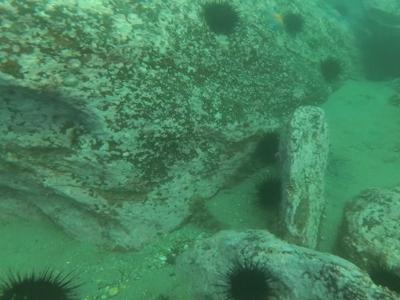holothurian: (187, 195, 231, 233)
urchin: (217, 250, 280, 299), (4, 268, 85, 296), (203, 4, 244, 35), (253, 175, 280, 208), (258, 133, 281, 166), (319, 59, 346, 81), (281, 14, 304, 35)
